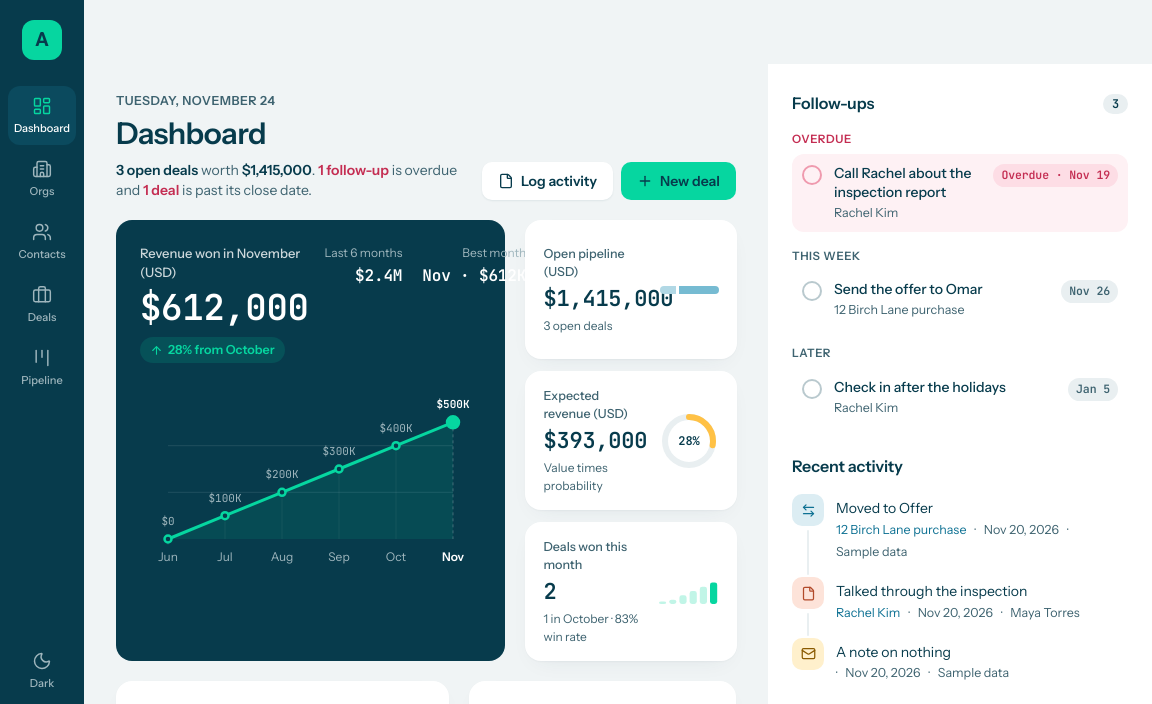
Dashboard › opens Log activity and New deal
The image size is (1152, 704).
Click the button "Log activity": point(548, 181) [482,162,613,200]
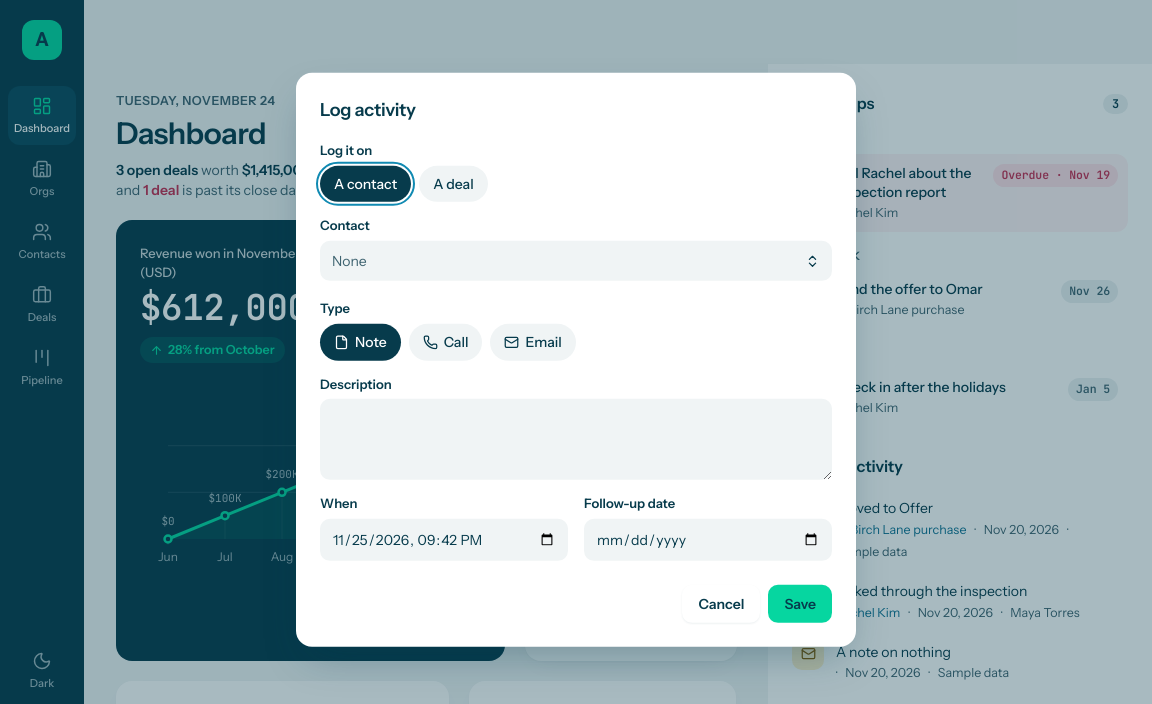
Check: the dialog "Log activity" is shown, box [296,73,856,647]
Click the button "Cancel": point(721, 604) [682,585,760,623]
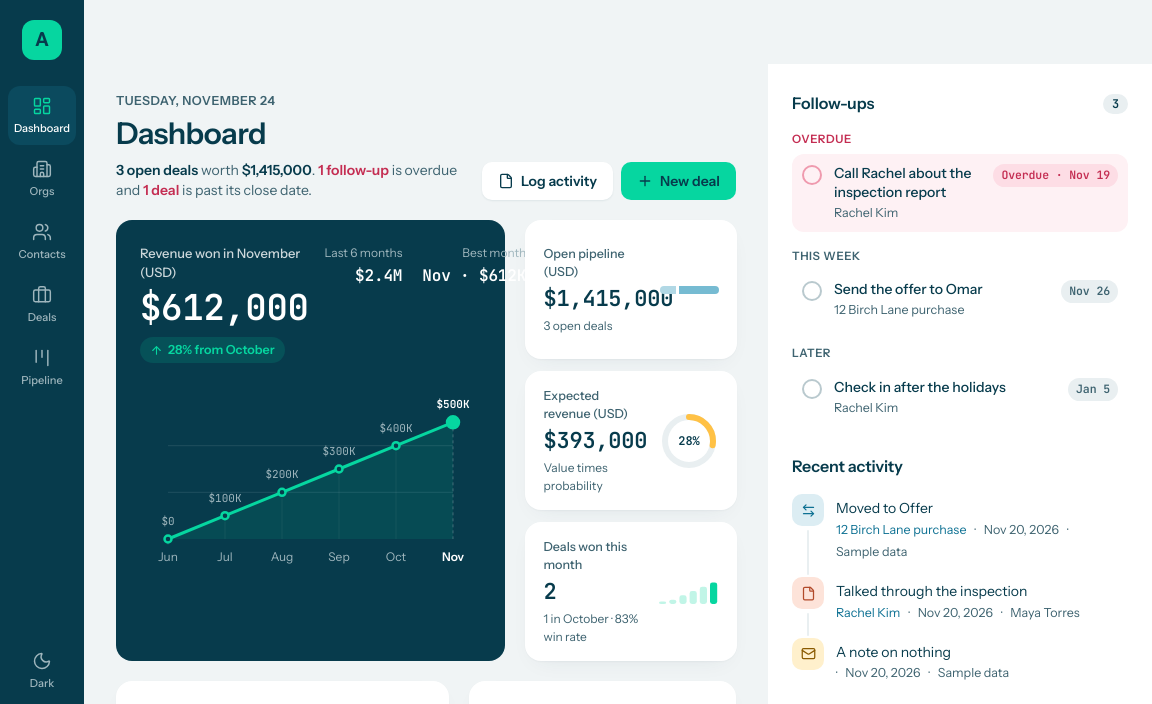
Check: the dialog is gone
Click the button "New deal": point(679, 181) [621,162,736,200]
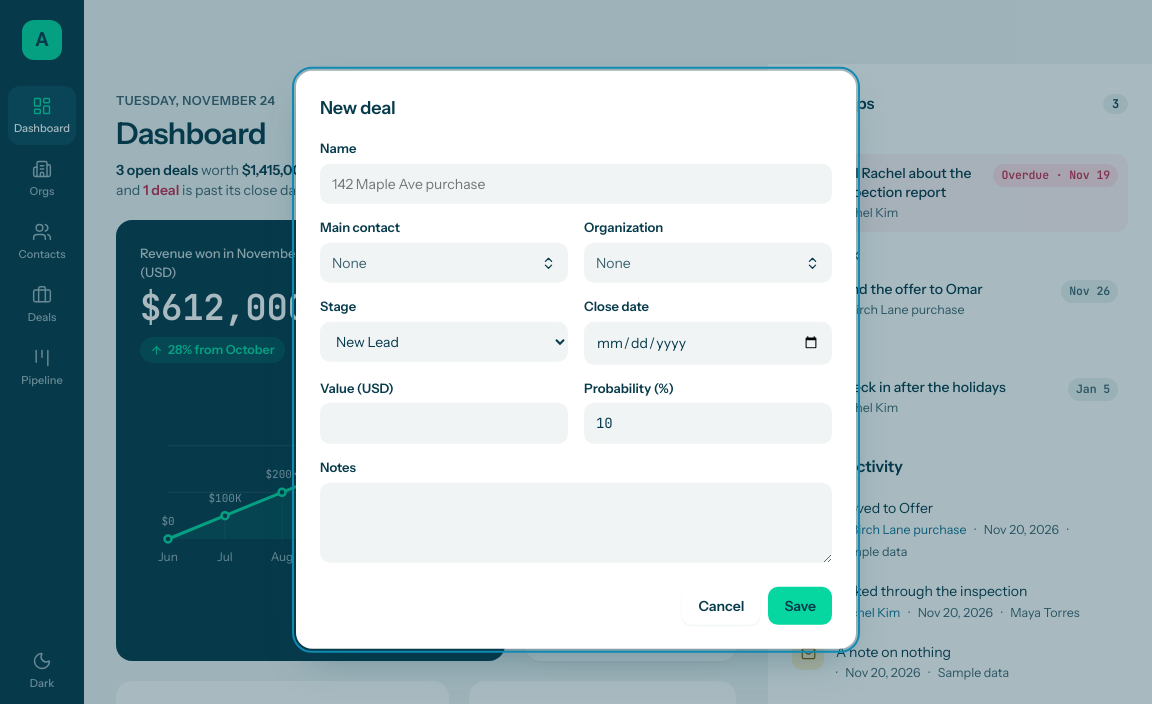
Check: the dialog "New deal" is shown, box [296,71,856,649]
